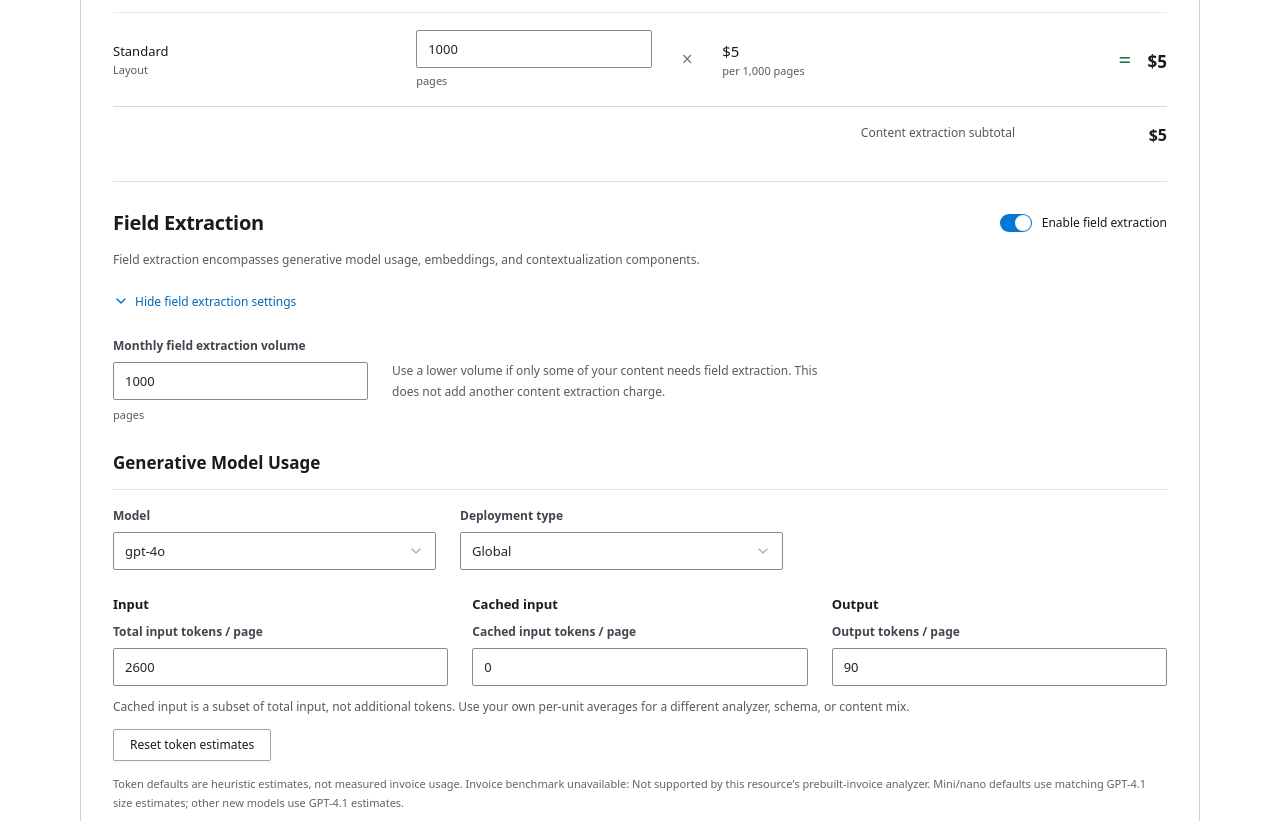
Test: Pricing calculator UI › uses a separate field volume without charging content extraction twice
(page scrolled)
Replace the text in the number field labelled "Monthly field extraction volume" with "500" at [240, 381], box left=113, top=362, right=368, bottom=400
(page scrolled)
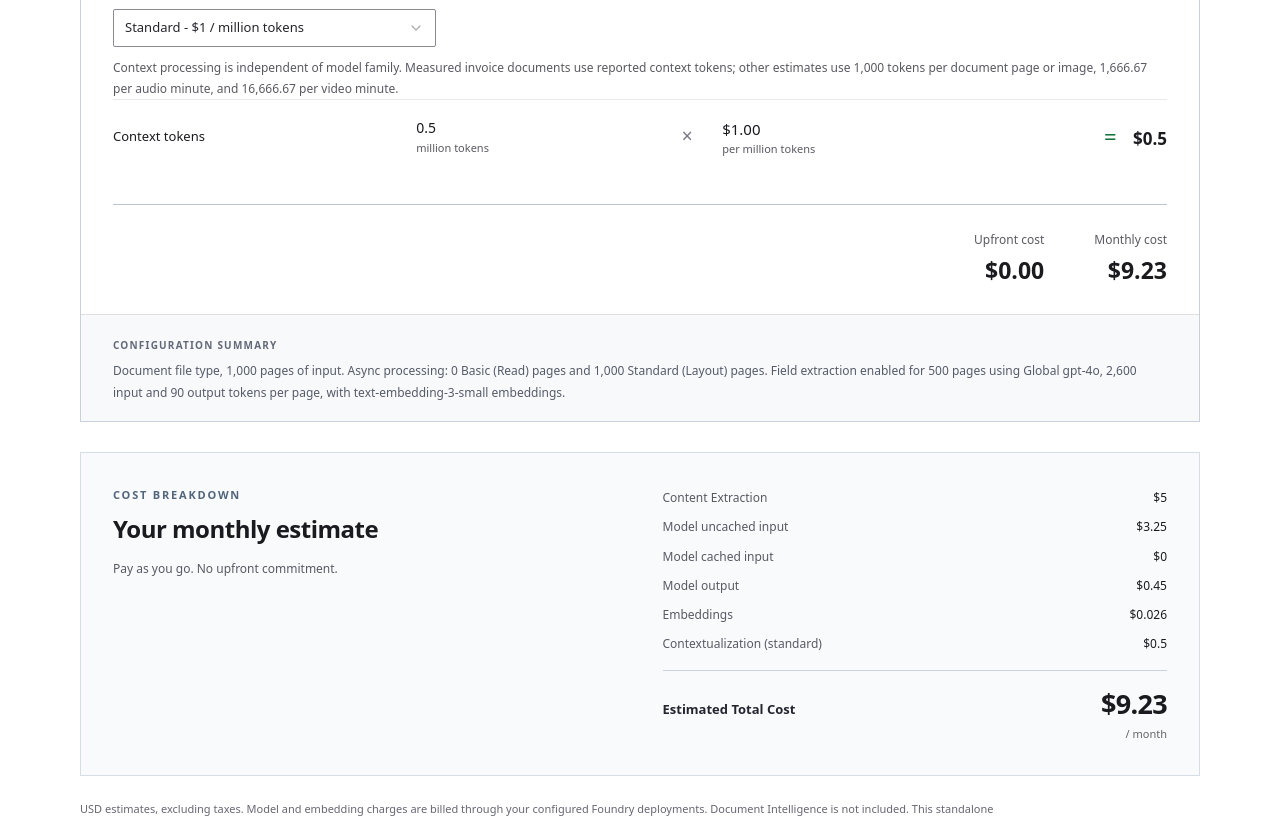
Expected: the text "$9.23" is shown, left=1101, top=685, right=1167, bottom=722
Expected: the text "Field extraction enabled for 500 pages" is shown, left=113, top=362, right=1137, bottom=400
